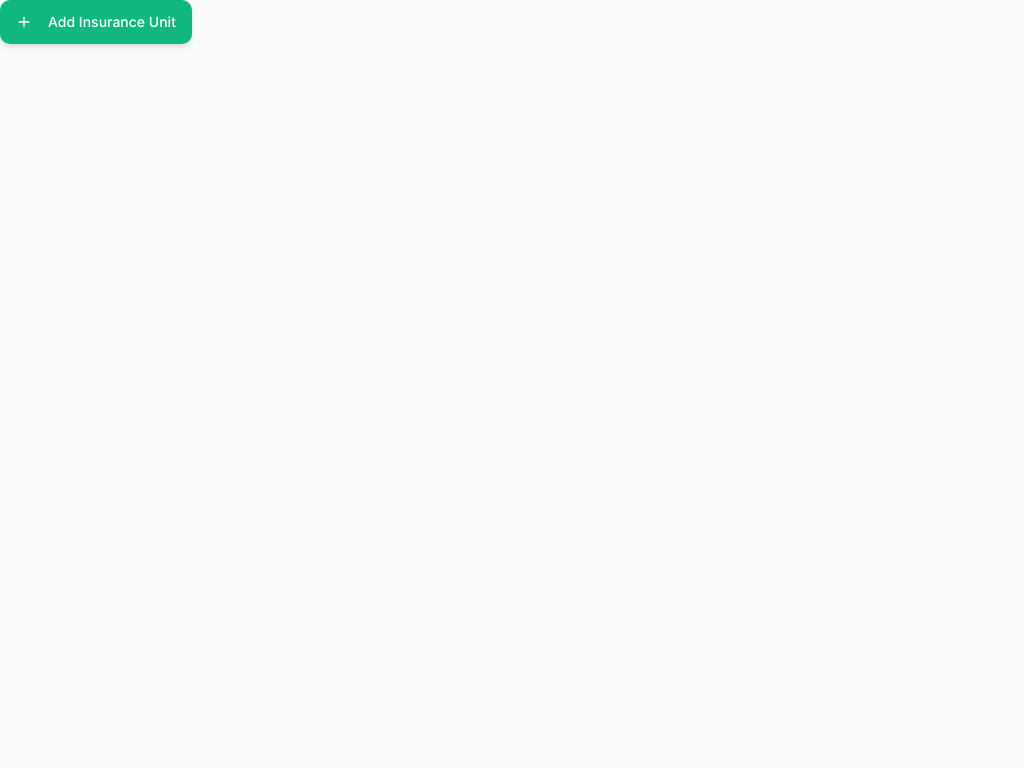
Test: CreateInsuranceUnitDialog › does not offer livestock terms in Ghana and cannot be submitted there
Step 1. Click the button "Add Insurance Unit" → (96, 22), box [0,0,192,44]
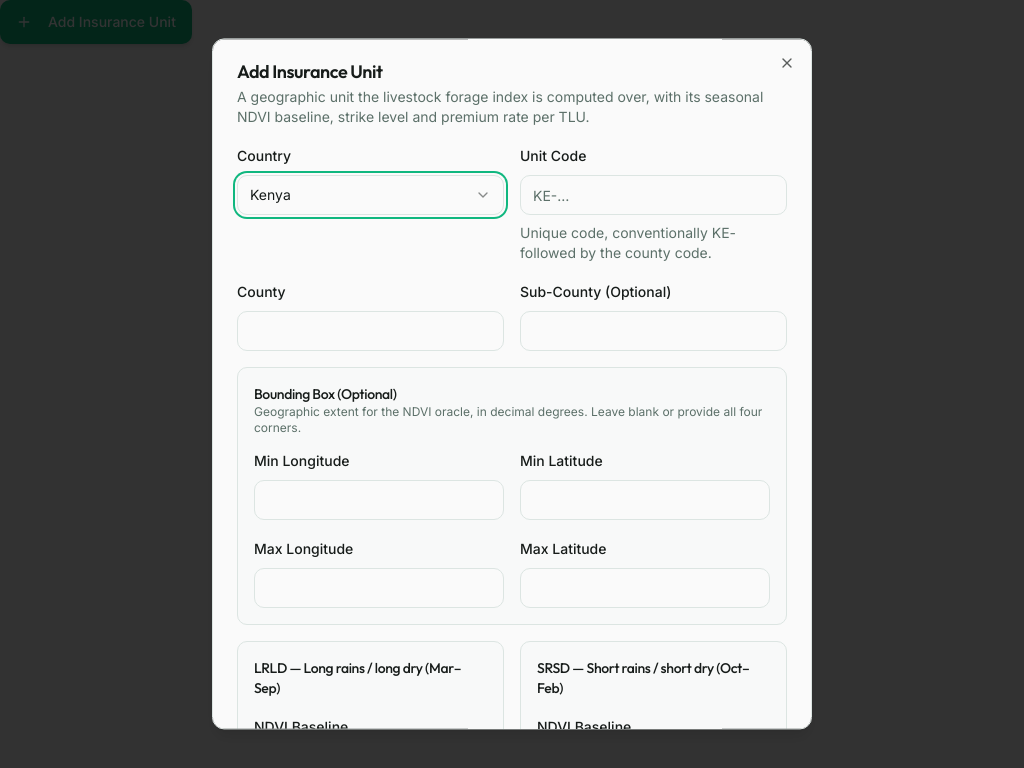
Step 2. Click the dropdown named "Country" → (270, 195), box [237,175,504,215]
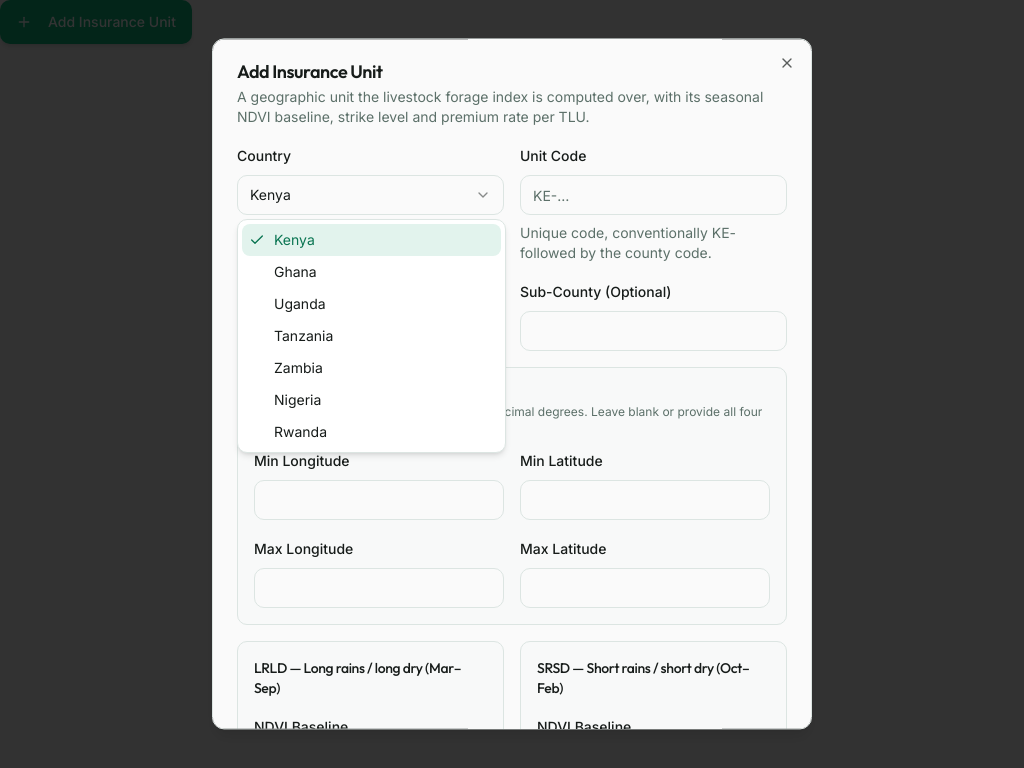
Step 3. Click the option "Ghana" → (295, 272), box [274,263,317,280]
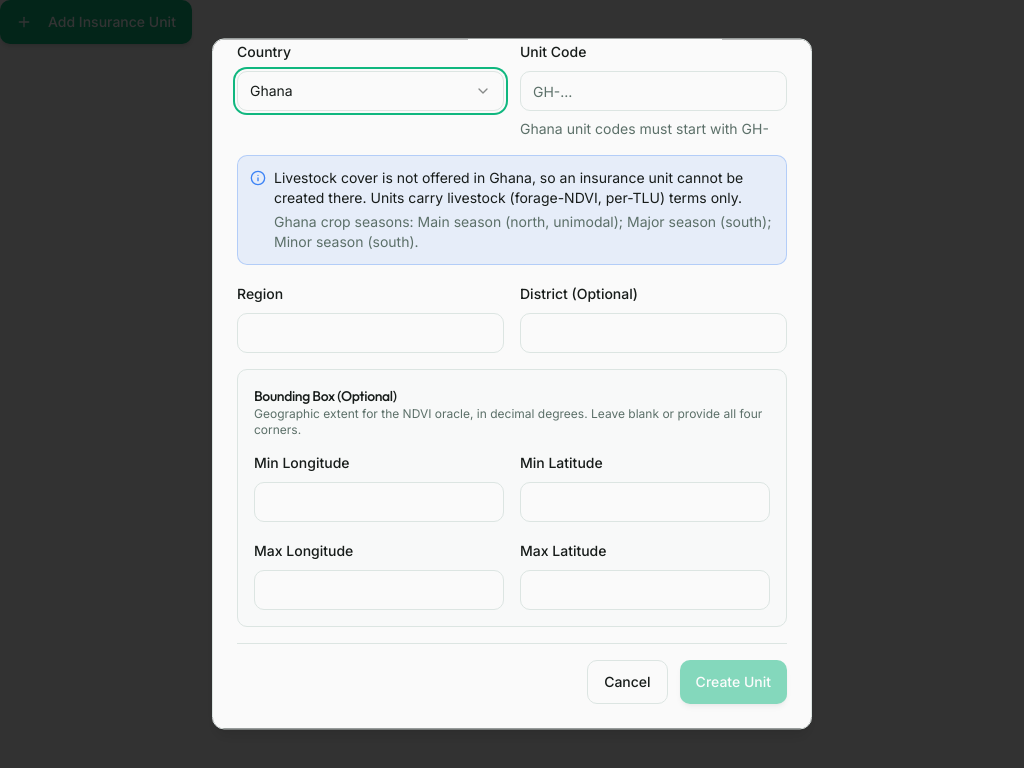
Check: the text "Livestock cover is not offered in Ghana" is shown, box [274,168,774,208]
Check: the text "Ghana crop seasons: Main season (north, unimodal)" is shown, box [274,212,774,252]
Check: the heading "LRLD" is gone
